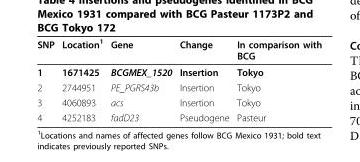table: (36, 36, 321, 122)
table column: (232, 36, 321, 122), (106, 36, 175, 122), (175, 36, 232, 122), (57, 36, 106, 122), (36, 36, 57, 122)
table column header: (36, 36, 321, 63)
table row: (36, 36, 321, 63), (36, 63, 321, 79), (36, 79, 321, 94), (36, 94, 321, 109), (36, 109, 321, 122)
